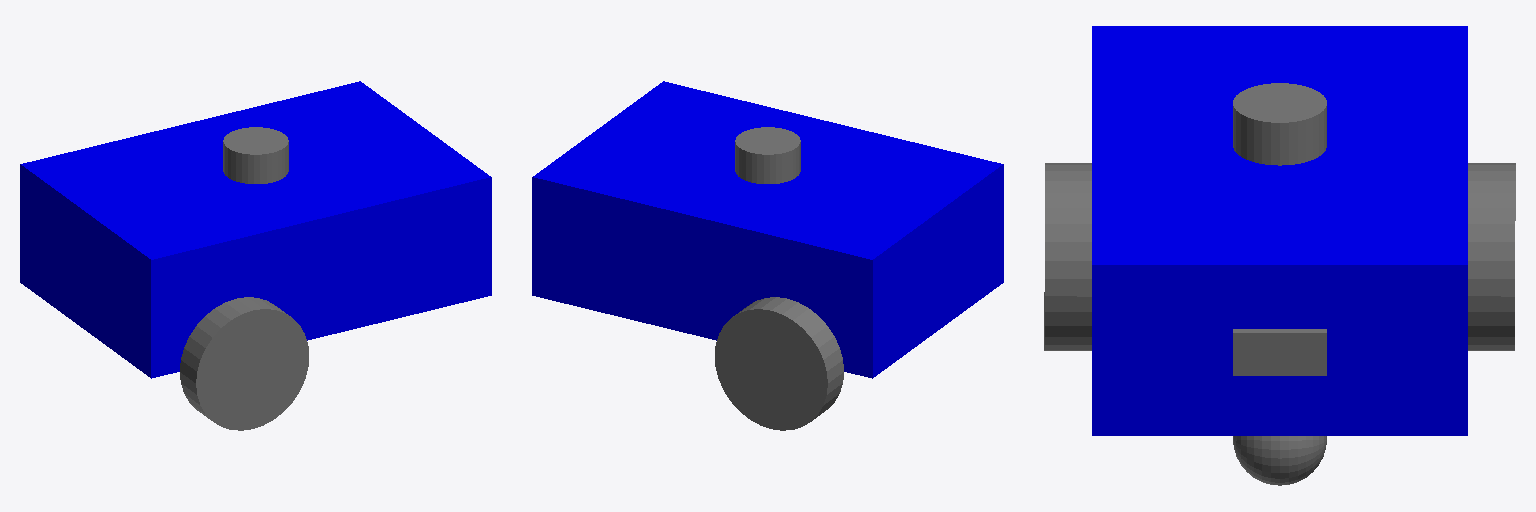
URDF robot description (my_robot):
<?xml version="1.0"?>
<robot name="my_robot">

    <material name="blue">
        <color rgba="0.0 0.0 1.0 1.0"/>
    </material>
    <material name="grey">
        <color rgba="0.5 0.5 0.5 1.0"/>
    </material>

    <link name="base_footprint"/>
    
    <link name="base_link">
        <inertial>
            <origin xyz="0.0 0.0 0.0" rpy="0.0 0.0 0.0"/>
            <mass value="0.0"/>
            <inertia ixx="0.0" ixy="0.0" ixz="0.0" iyy="0.0" iyz="0.0" izz="0.0"/>
        </inertial>
        <visual name="">
            <origin xyz="0.0 0.0 0.1" rpy="0.0 0.0 0.0"/>
            <geometry>
                <box size="0.6 0.4 0.2"/>
            </geometry>
            <material name="blue"/>
        </visual>
        <collision>
            <origin xyz="0.0 0.0 0.0" rpy="0.0 0.0 0.0"/>
            <geometry>
                <box size="0.0 0.0 0.0"/>
            </geometry>
        </collision>
    </link>

    <link name="left_wheel_link">
        <inertial>
            <origin xyz="0.0 0.0 0.0" rpy="0.0 0.0 0.0"/>
            <mass value="0.0"/>
            <inertia ixx="0.0" ixy="0.0" ixz="0.0" iyy="0.0" iyz="0.0" izz="0.0"/>
        </inertial>
        <visual name="">
            <origin xyz="0.0 0.0 0.0" rpy="1.57 0.0 0.0"/>
            <geometry>
                <cylinder radius="0.1" length="0.05"/>
            </geometry>
            <material name="grey"/>
        </visual>
        <collision>
            <origin xyz="0.0 0.0 0.0" rpy="0.0 0.0 0.0"/>
            <geometry>
                <box size="0.0 0.0 0.0"/>
            </geometry>
        </collision>
    </link>

    <link name="right_wheel_link">
        <inertial>
            <origin xyz="0.0 0.0 0.0" rpy="0.0 0.0 0.0"/>
            <mass value="0.0"/>
            <inertia ixx="0.0" ixy="0.0" ixz="0.0" iyy="0.0" iyz="0.0" izz="0.0"/>
        </inertial>
        <visual name="">
            <origin xyz="0.0 0.0 0.0" rpy="1.57 0.0 0.0"/>
            <geometry>
                <cylinder radius="0.1" length="0.05"/>
            </geometry>
            <material name="grey"/>
        </visual>
        <collision>
            <origin xyz="0.0 0.0 0.0" rpy="0.0 0.0 0.0"/>
            <geometry>
                <box size="0.0 0.0 0.0"/>
            </geometry>
        </collision>
    </link>

    <link name="caster_wheel_link">
        <inertial>
            <origin xyz="0.0 0.0 0.0" rpy="0.0 0.0 0.0"/>
            <mass value="0.0"/>
            <inertia ixx="0.0" ixy="0.0" ixz="0.0" iyy="0.0" iyz="0.0" izz="0.0"/>
        </inertial>
        <visual name="">
            <origin xyz="0.0 0.0 0.0" rpy="1.57 0.0 0.0"/>
            <geometry>
                <sphere radius="0.05"/>
            </geometry>
            <material name="grey"/>
        </visual>
        <collision>
            <origin xyz="0.0 0.0 0.0" rpy="0.0 0.0 0.0"/>
            <geometry>
                <box size="0.0 0.0 0.0"/>
            </geometry>
        </collision>
    </link>

    <link name="lidar_link">
        <inertial>
            <origin xyz="0.0 0.0 0.0" rpy="0.0 0.0 0.0"/>
            <mass value="0.0"/>
            <inertia ixx="0.0" ixy="0.0" ixz="0.0" iyy="0.0" iyz="0.0" izz="0.0"/>
        </inertial>
        <visual name="">
            <origin xyz="0.0 0.0 0.025" rpy="0.0 0.0 0.0"/>
            <geometry>
                <cylinder radius="0.05" length="0.05"/>
            </geometry>
            <material name="grey"/>
        </visual>
        <collision>
            <origin xyz="0.0 0.0 0.0" rpy="0.0 0.0 0.0"/>
            <geometry>
                <box size="0.0 0.0 0.0"/>
            </geometry>
        </collision>
    </link>

    <link name="imu_link">
        <inertial>
            <origin xyz="0.0 0.0 0.0" rpy="0.0 0.0 0.0"/>
            <mass value="0.0"/>
            <inertia ixx="0.0" ixy="0.0" ixz="0.0" iyy="0.0" iyz="0.0" izz="0.0"/>
        </inertial>
        <visual name="">
            <origin xyz="0.0 0.0 0.0" rpy="0.0 0.0 0.0"/>
            <geometry>
                <box size="0.025 0.025 0.025"/>
            </geometry>
            <material name="grey"/>
        </visual>
        <collision>
            <origin xyz="0.0 0.0 0.0" rpy="0.0 0.0 0.0"/>
            <geometry>
                <box size="0.0 0.0 0.0"/>
            </geometry>
        </collision>
    </link>

    <link name="camera_link">
        <inertial>
            <origin xyz="0.0 0.0 0.0" rpy="0.0 0.0 0.0"/>
            <mass value="0.0"/>
            <inertia ixx="0.0" ixy="0.0" ixz="0.0" iyy="0.0" iyz="0.0" izz="0.0"/>
        </inertial>
        <visual name="">
            <origin xyz="0.0 0.0 0.0" rpy="0.0 0.0 0.0"/>
            <geometry>
                <box size="0.01 0.1 0.05"/>
            </geometry>
            <material name="grey"/>
        </visual>
        <collision>
            <origin xyz="0.0 0.0 0.0" rpy="0.0 0.0 0.0"/>
            <geometry>
                <box size="0.0 0.0 0.0"/>
            </geometry>
        </collision>
    </link>

    <joint name="base_footprint_joint" type="fixed">
        <origin xyz="0.0 0.0 0.1" rpy="0.0 0.0 0.0"/>
        <parent link="base_footprint"/>
        <child link="base_link"/>
    </joint>

    <joint name="left_wheel_joint" type="continuous">
        <origin xyz="-0.15 0.225 0.0" rpy="0.0 0.0 0.0"/>
        <parent link="base_link"/>
        <child link="left_wheel_link"/>
        <axis xyz="0.0 1.0 0.0"/>
    </joint>

    <joint name="right_wheel_joint" type="continuous">
        <origin xyz="-0.15 -0.225 0.0" rpy="0.0 0.0 0.0"/>
        <parent link="base_link"/>
        <child link="right_wheel_link"/>
        <axis xyz="0.0 1.0 0.0"/>
    </joint>

    <joint name="caster_wheel_joint" type="fixed">
        <origin xyz="0.2 0.0 -0.05" rpy="0.0 0.0 0.0"/>
        <parent link="base_link"/>
        <child link="caster_wheel_link"/>
    </joint>

    <joint name="lidar_joint" type="fixed">
        <origin xyz="0.0 0.0 0.2" rpy="0.0 0.0 0.0"/>
        <parent link="base_link"/>
        <child link="lidar_link"/>
    </joint>

    <joint name="imu_joint" type="fixed">
        <origin xyz="0.0 0.0 0.1" rpy="0.0 0.0 0.0"/>
        <parent link="base_link"/>
        <child link="imu_link"/>
    </joint>

    <joint name="camera_joint" type="fixed">
        <origin xyz="0.305 0.0 0.1" rpy="0.0 0.0 0.0"/>
        <parent link="base_link"/>
        <child link="camera_link"/>
    </joint>

</robot>

--- Facts derived from the render (not from the file) ---
The picture shows the robot from 3 angles, left to right: view 1: azimuth 30°, elevation 25°; view 2: azimuth 150°, elevation 25°; view 3: azimuth 270°, elevation 25°; orthographic projection.
Model my_robot with 8 links and 7 joints (2 continuous, 5 fixed), rooted at base_footprint, posed every joint at zero.
Visible links, largest first — view 1: base_link, right_wheel_link, lidar_link; view 2: base_link, left_wheel_link, lidar_link; view 3: base_link, right_wheel_link, left_wheel_link, lidar_link, camera_link, caster_wheel_link.
Link boxes in pixels (x1,y1,x2,y2): base_link: [20, 81, 491, 378]; right_wheel_link: [180, 297, 308, 430]; lidar_link: [223, 127, 288, 183]; base_link: [532, 81, 1003, 378]; left_wheel_link: [715, 297, 843, 430]; lidar_link: [735, 127, 800, 183]; base_link: [1092, 26, 1467, 435]; right_wheel_link: [1044, 163, 1091, 350]; left_wheel_link: [1468, 163, 1515, 350]; lidar_link: [1233, 83, 1326, 165]; camera_link: [1233, 329, 1326, 375]; caster_wheel_link: [1233, 436, 1326, 485].
Size in the robot's own frame: 0.61 by 0.5002 by 0.35 metres.
Geometry: primitives only (box / cylinder / sphere), no mesh files.
